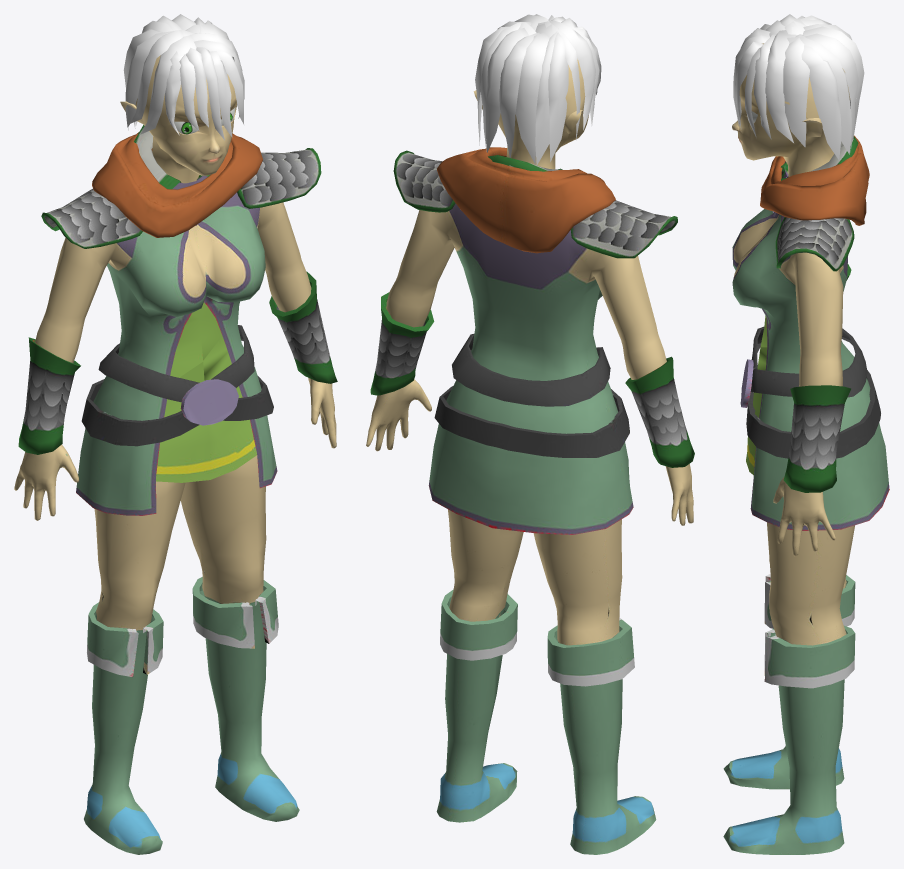
The model's file is archri-V01.obj.
3 renders of one model, left to right at view 1: azimuth 30°, elevation 25°; view 2: azimuth 150°, elevation 25°; view 3: azimuth 270°, elevation 25°, orthographic.
Parts seen in each view (by area): view 1: Object411, Object410, Object401, Object422, Object413, Object405, Object415, Object416, Object414; view 2: Object410, Object411, Object422, Object413, Object401, Object405, Object414, Object415, Object416; view 3: Object411, Object410, Object422, Object414, Object401, Object413, Object416, Object405.
Boxes of the visible parts, x1,y1,x2,y2 form: Object411: [84, 107, 299, 854]; Object410: [35, 192, 311, 515]; Object401: [81, 302, 273, 482]; Object422: [123, 14, 244, 140]; Object413: [92, 132, 262, 237]; Object405: [41, 148, 321, 248]; Object415: [14, 337, 80, 520]; Object416: [120, 55, 236, 225]; Object414: [269, 271, 337, 448]; Object410: [386, 203, 666, 534]; Object411: [436, 509, 656, 854]; Object422: [475, 14, 601, 165]; Object413: [437, 147, 615, 253]; Object401: [434, 334, 629, 457]; Object405: [393, 150, 677, 258]; Object414: [366, 292, 434, 451]; Object415: [625, 356, 694, 525]; Object416: [473, 59, 588, 171]; Object411: [723, 111, 855, 854]; Object410: [732, 176, 889, 530]; Object422: [733, 14, 864, 160]; Object414: [773, 385, 850, 555]; Object401: [746, 315, 880, 475]; Object413: [760, 135, 869, 225]; Object416: [732, 43, 858, 216]; Object405: [775, 161, 854, 271].
Size of the model in its own units: 27.46 by 66.73 by 12.76.
